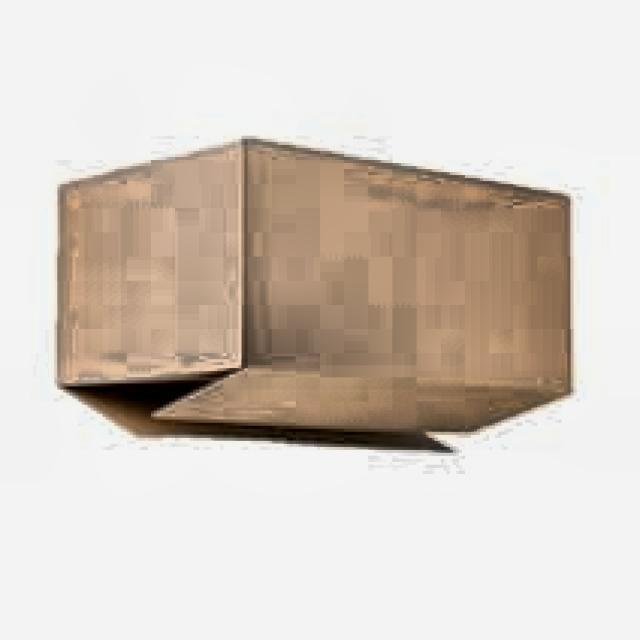cardboard: (54, 139, 574, 456)
